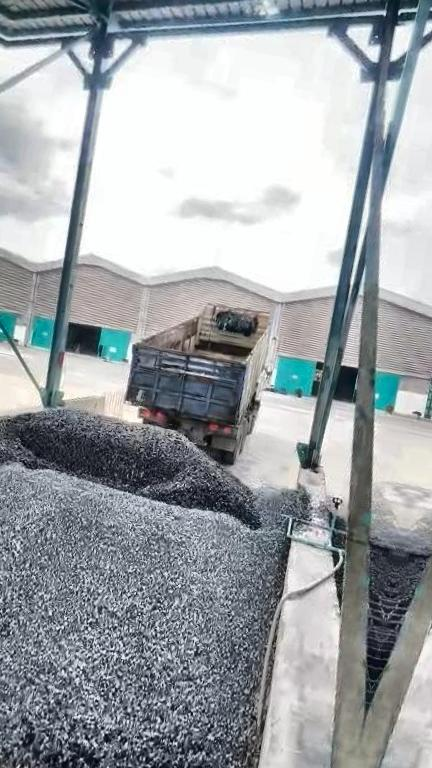gravel: (0, 409, 314, 768), (370, 501, 405, 595)
